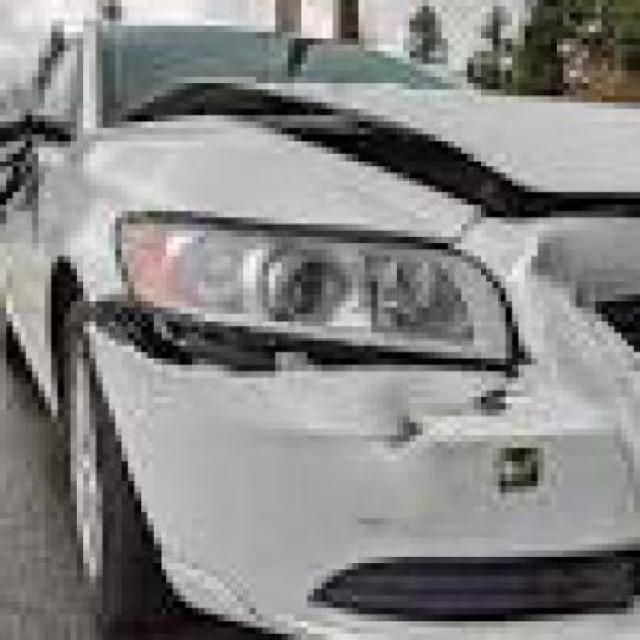damaged-front-bumper: (91, 306, 640, 626)
